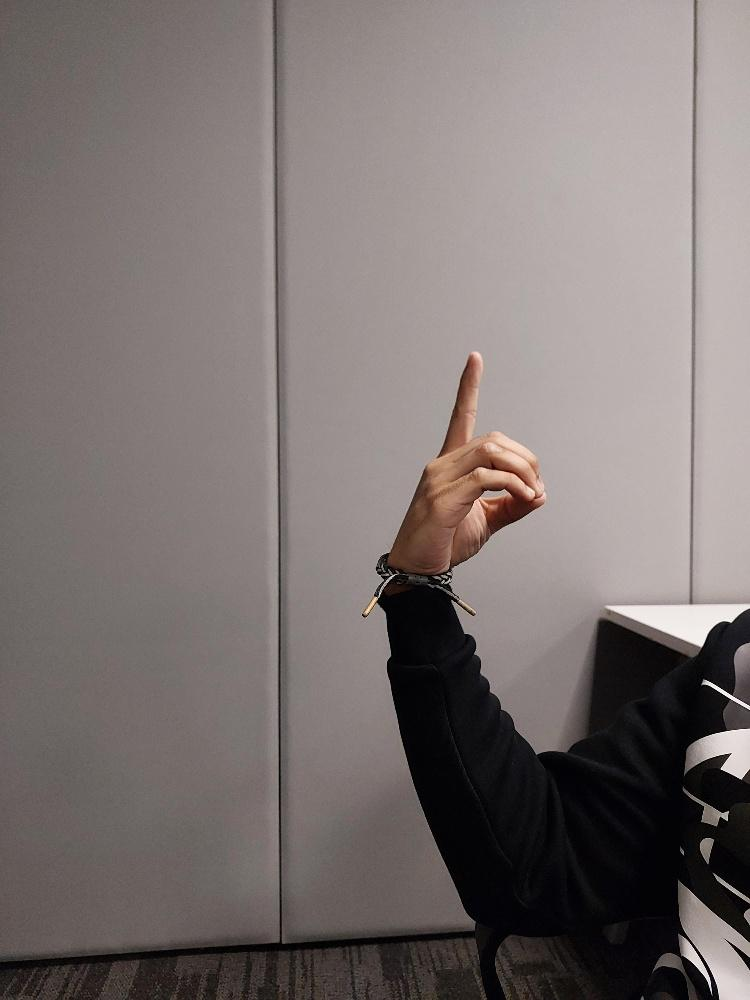d: (388, 348, 548, 576)
